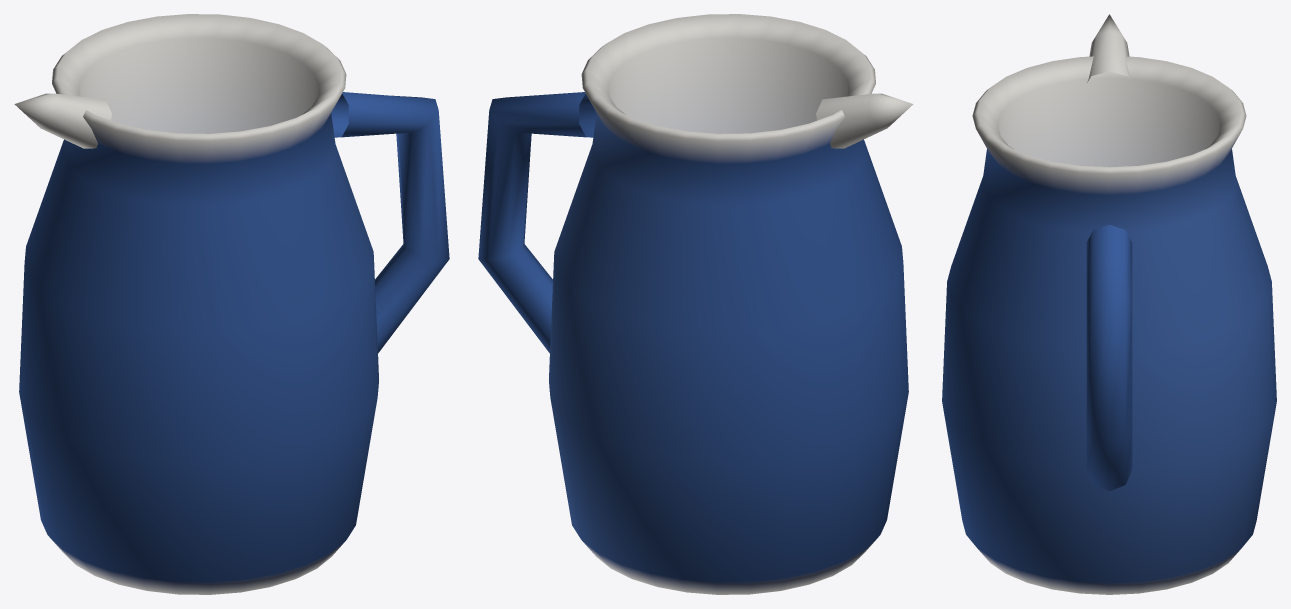
The model's file is Hut_Pitcher.fbx.
The picture shows the model from 3 angles, left to right: view 1: azimuth 30°, elevation 25°; view 2: azimuth 150°, elevation 25°; view 3: azimuth 270°, elevation 25°; orthographic projection. The views are drawn at different scales.
Visible parts, largest first — view 1: Hut_Pitcher; view 2: Hut_Pitcher; view 3: Hut_Pitcher.
Boxes of the visible parts, <box> form: Hut_Pitcher: <box>14,14,449,594</box>; Hut_Pitcher: <box>478,14,913,594</box>; Hut_Pitcher: <box>942,14,1276,594</box>.
Size of the model in its own units: 9.13 by 9.62 by 6.6.
